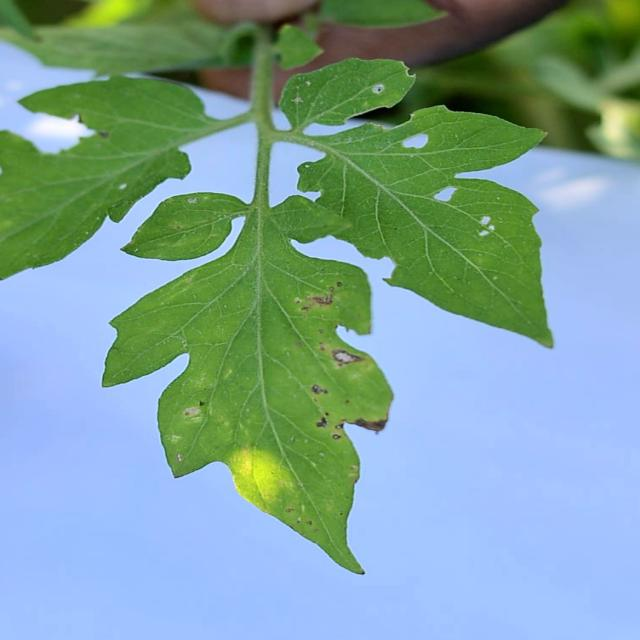infected: (271, 252, 396, 490)
